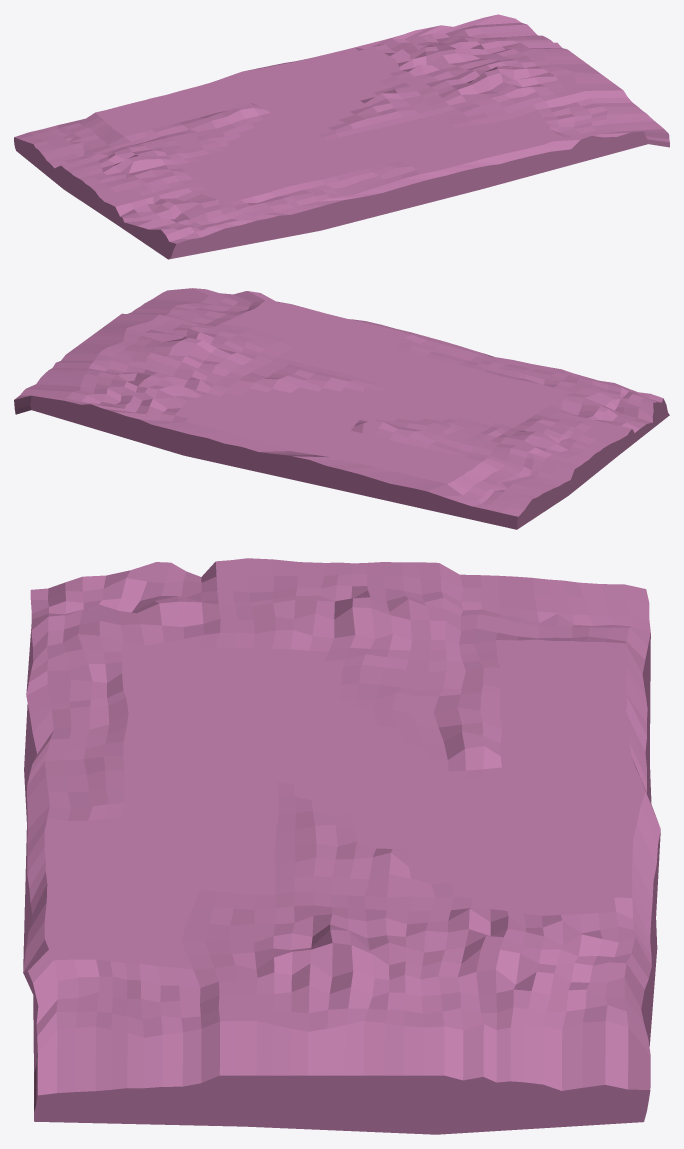
File: LEVEL_IKI_DUSMAN_ZEMIN 1.fbx
The picture shows the model from 3 angles, top to bottom: view 1: azimuth 30°, elevation 25°; view 2: azimuth 150°, elevation 25°; view 3: azimuth 270°, elevation 25°; orthographic projection. The views are drawn at different scales.
Parts seen in each view (by area): view 1: Plane.018; view 2: Plane.018; view 3: Plane.018.
Boxes of the visible parts, bbox=[...] form: Plane.018: bbox=[14, 14, 669, 259]; Plane.018: bbox=[14, 288, 669, 529]; Plane.018: bbox=[23, 558, 660, 1134].
Bounding box in the file's own units: 5389 × 496 × 2888.
